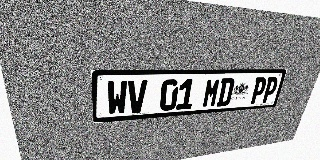0: (159, 79, 179, 111)
1: (176, 79, 196, 110)
D: (216, 78, 235, 107)
M: (202, 78, 221, 108)
P: (249, 77, 268, 104), (261, 77, 280, 103)
V: (127, 80, 147, 114)
W: (107, 80, 127, 115)
